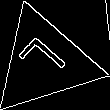L_SE: (15, 33, 75, 90)
